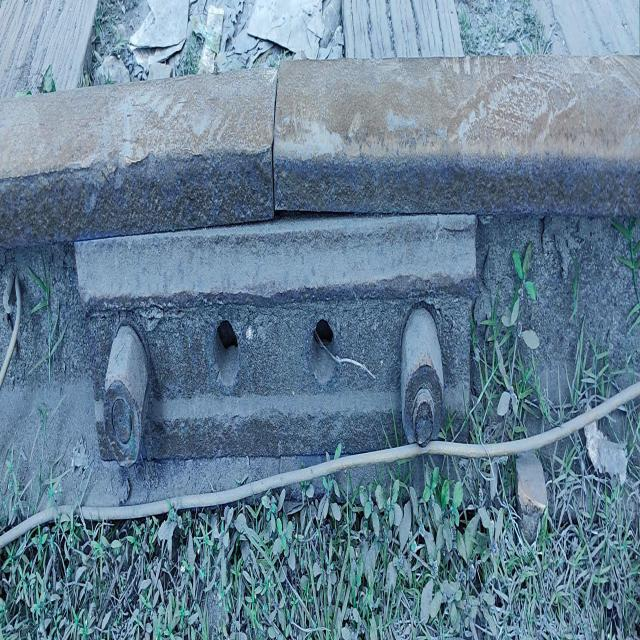Defective Joint: (55, 120, 476, 572)
